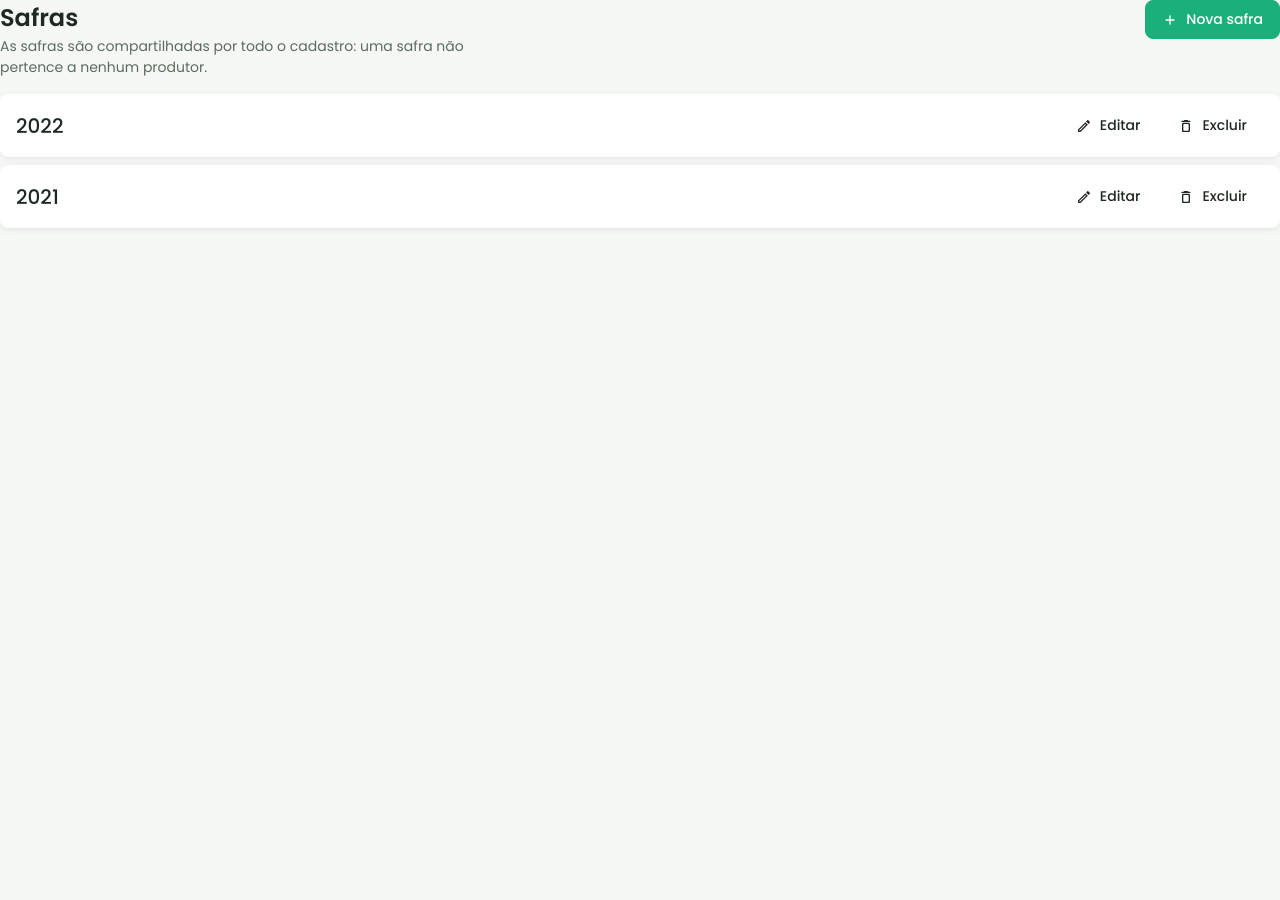
Test case: SafraList › explains a refused deletion and leaves the season in place
expect the link "2021" is shown: met, box [16,182,59,212]
Click the button with aria-label "Excluir safra 2021".
click(1213, 196)  # box [1161,177,1264,216]
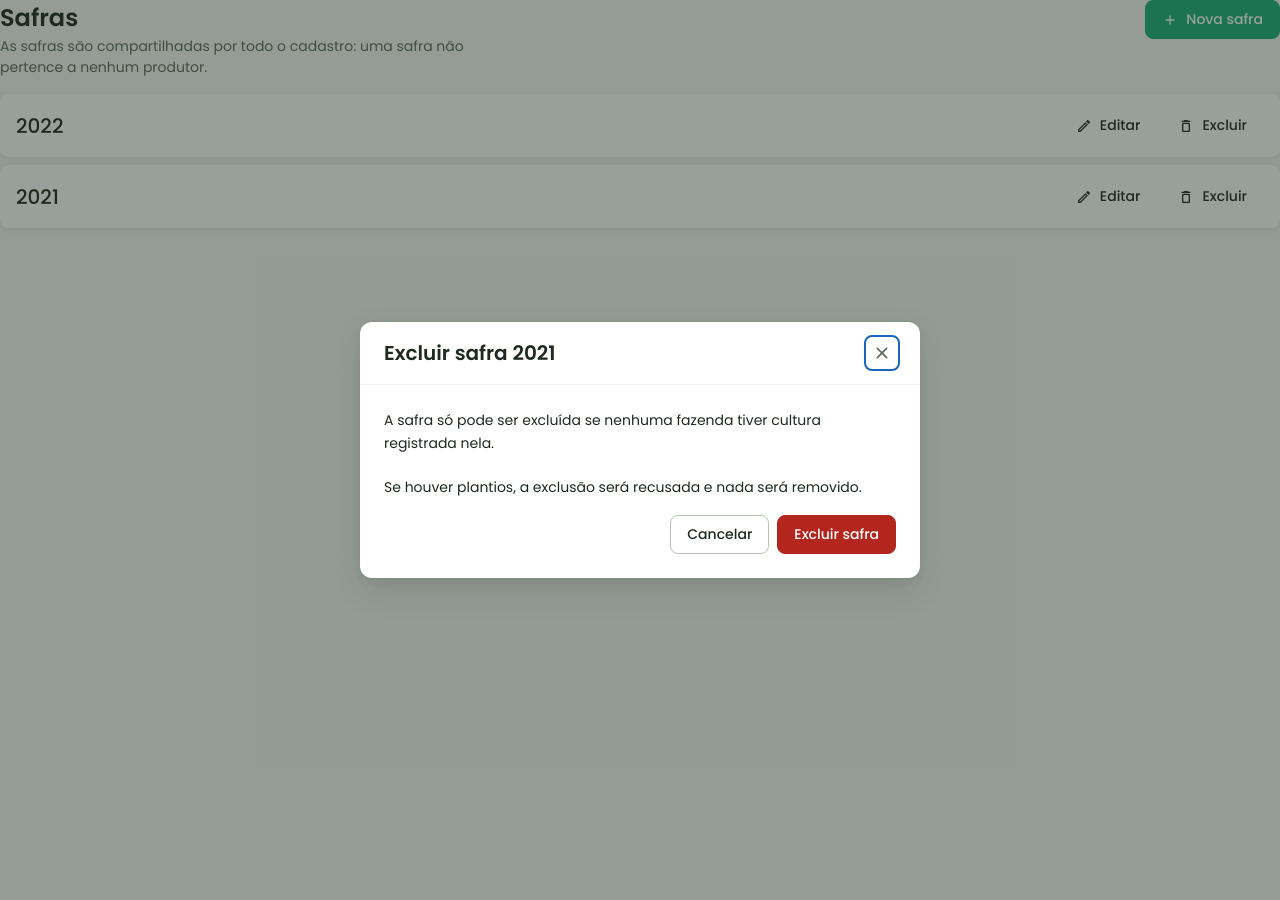
Click the button "Excluir safra".
click(837, 534)  # box [777,515,896,554]
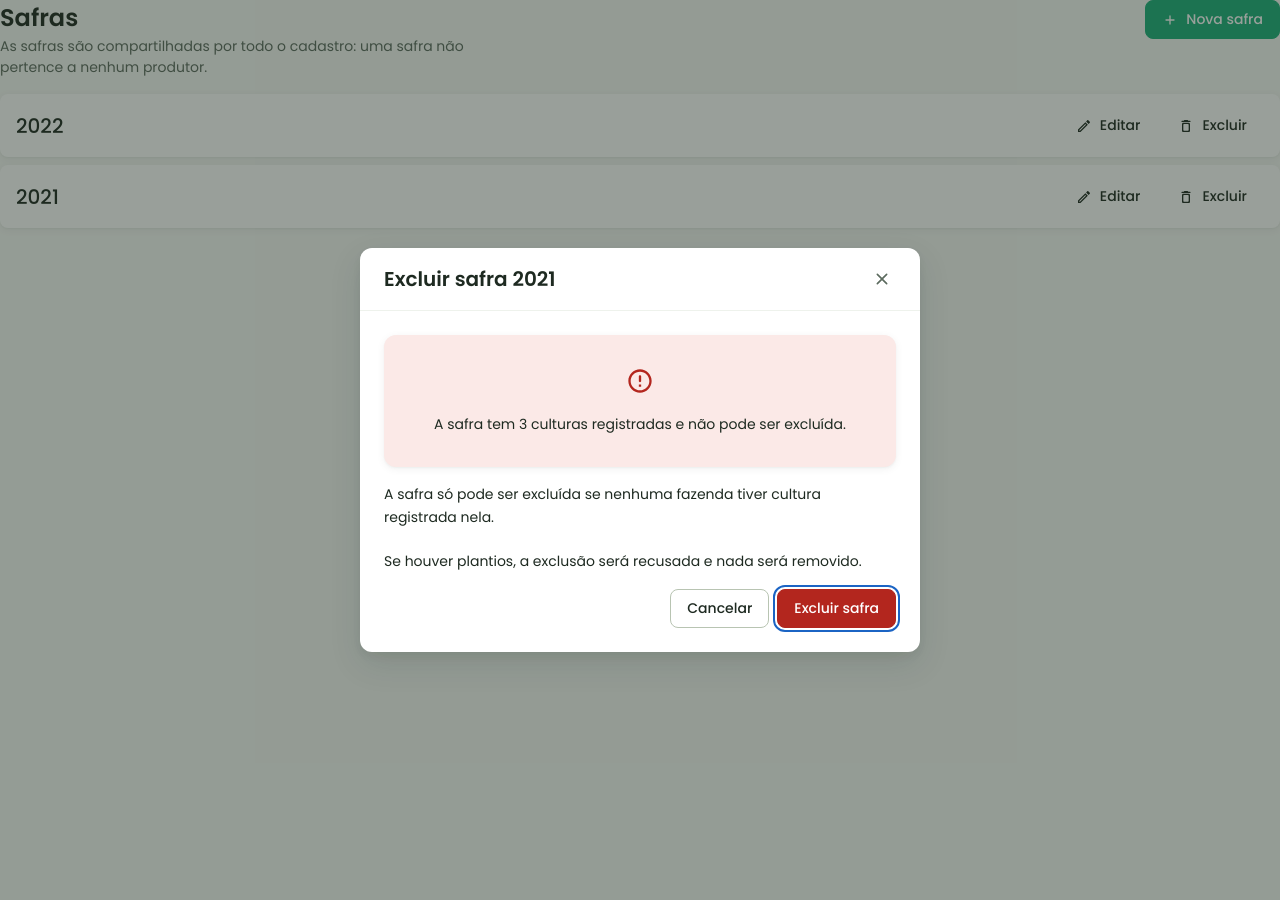
expect the link "2021" is shown: met, box [16,182,59,212]
expect the message reads "A safra tem 3 culturas registradas e não pode ser excluída.": met, box [434,414,846,434]
